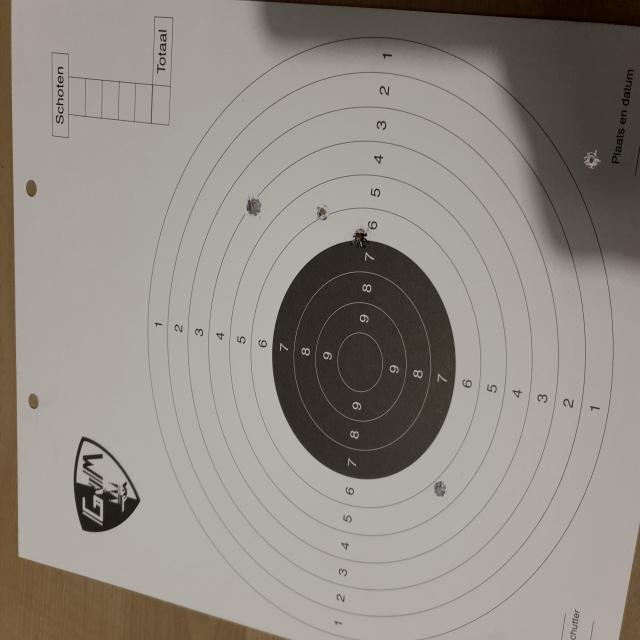0: (583, 148, 600, 170)
4: (244, 191, 263, 220)
5: (433, 478, 449, 501)
6: (316, 203, 330, 221)
7: (350, 227, 370, 249)
Target: (148, 33, 612, 640)
black_contour: (273, 238, 455, 479)
